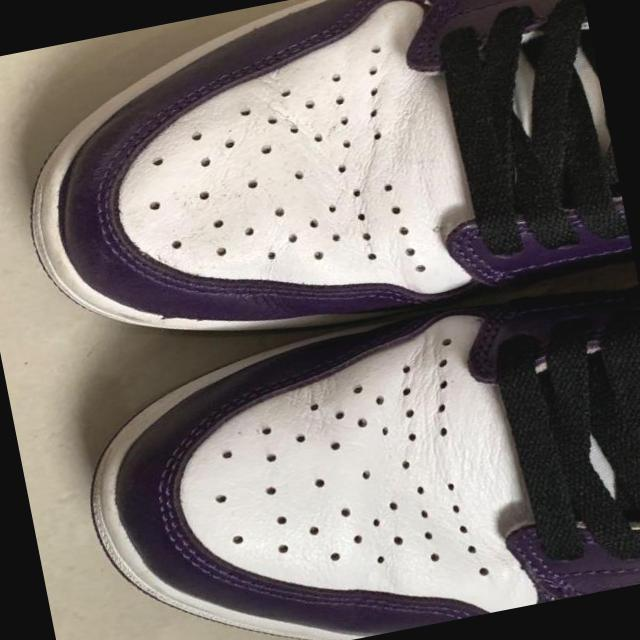nike_original_jordan: (0, 0, 635, 379), (59, 265, 640, 640)
